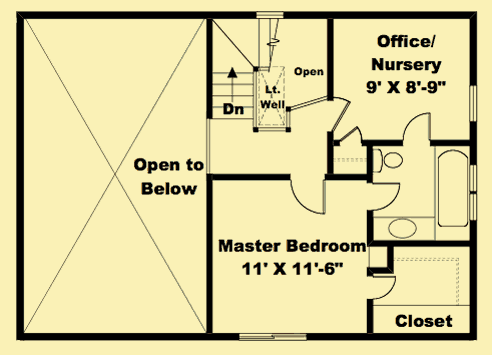door: (291, 176, 327, 218), (400, 111, 435, 146), (368, 179, 404, 212), (325, 97, 355, 134), (368, 275, 397, 299)
large_sink: (370, 147, 403, 175)
small_sink: (374, 214, 435, 241)
stairs: (213, 16, 259, 121)
tub: (434, 146, 470, 236)
window: (234, 332, 306, 342), (469, 163, 478, 223), (469, 84, 480, 122)
